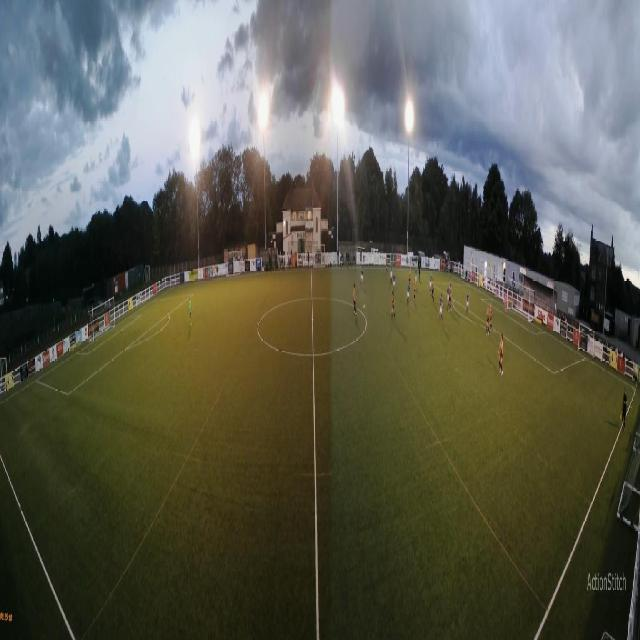ball: (363, 304, 365, 310)
player: (498, 332, 504, 378), (352, 283, 357, 317), (391, 291, 396, 323), (188, 294, 192, 328), (486, 304, 490, 338), (489, 303, 493, 334), (448, 284, 452, 314), (439, 293, 443, 322), (407, 279, 411, 307), (413, 276, 417, 302), (360, 268, 364, 289), (447, 283, 450, 311), (431, 277, 434, 304), (466, 290, 469, 316), (385, 256, 389, 275), (393, 271, 396, 295), (429, 272, 432, 296), (504, 291, 507, 315), (390, 264, 393, 286), (408, 266, 411, 285), (419, 264, 422, 283), (415, 267, 418, 282), (449, 279, 451, 288)
